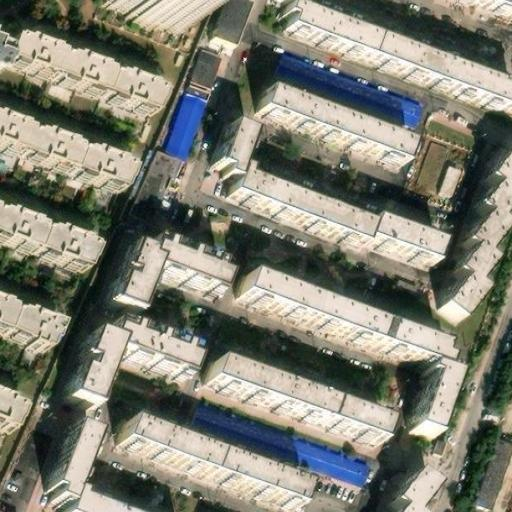building: (206, 120, 437, 258), (231, 274, 444, 371), (118, 415, 305, 502), (199, 357, 380, 442), (190, 398, 369, 483), (432, 144, 512, 320), (267, 52, 421, 128), (251, 85, 406, 159), (98, 236, 218, 317), (42, 422, 119, 512), (118, 328, 196, 383), (62, 327, 114, 403), (400, 376, 450, 455), (29, 220, 98, 276), (93, 0, 189, 35), (182, 44, 226, 100), (155, 105, 197, 162), (386, 463, 428, 512), (413, 136, 449, 190), (204, 0, 241, 48), (140, 151, 178, 187), (0, 388, 25, 434), (432, 162, 462, 198)
